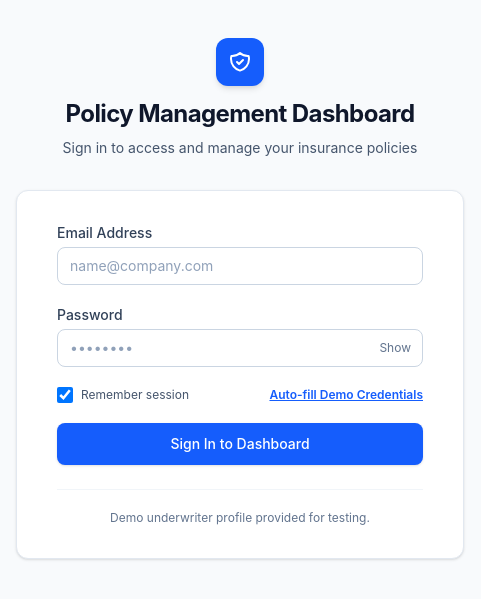
Test: LoginPage Component › validates required fields on empty submit
Click the button "Sign In to Dashboard" at [240, 444], box [57,422,423,464]
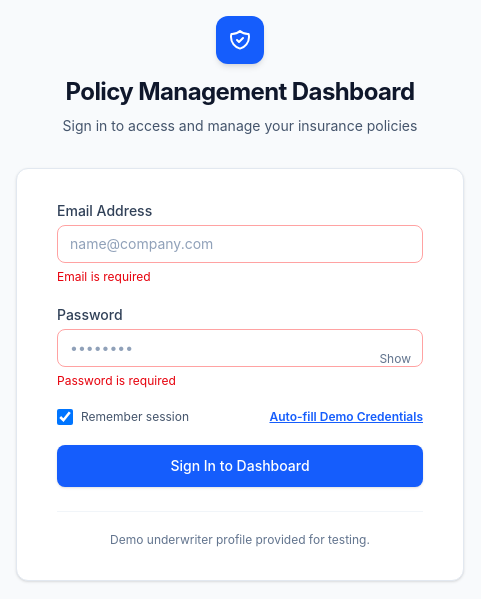
Now the text "Email is required" is shown, box [57,268,151,284]
Now the text "Password is required" is shown, box [57,372,176,388]
